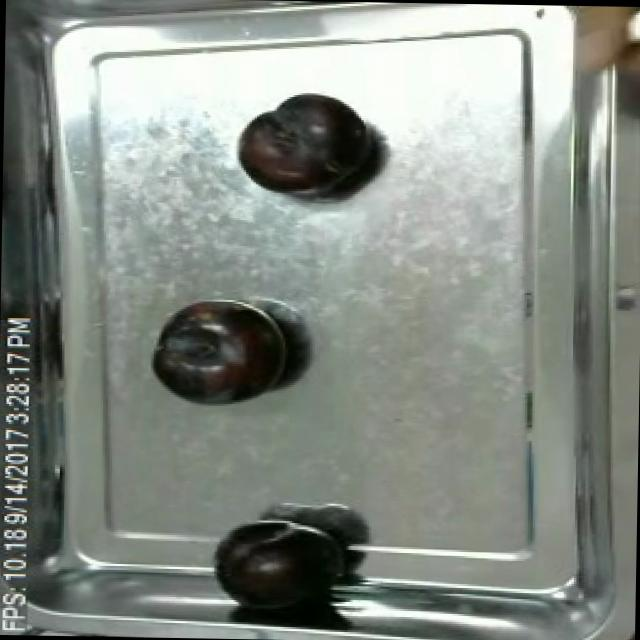Fruit: (230, 86, 386, 206), (147, 299, 301, 412)
